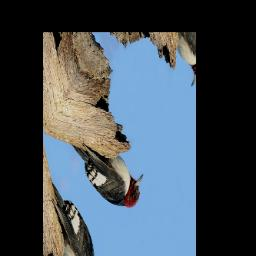Woodpecker: (69, 103, 149, 230)
